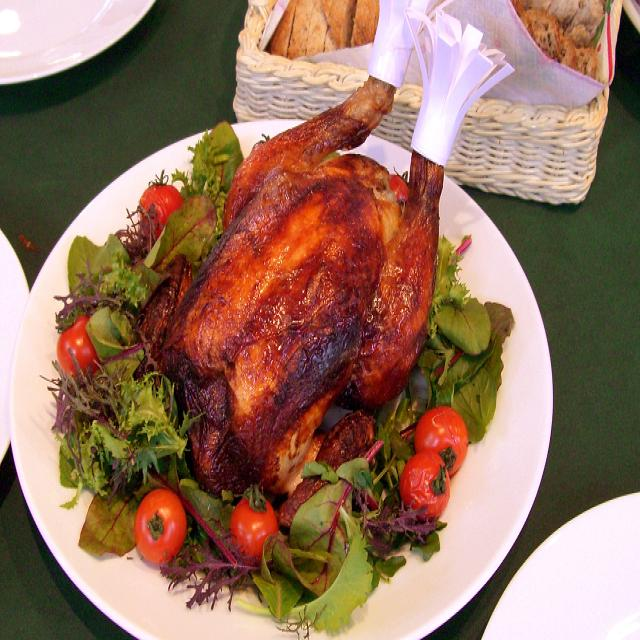鸡肉料理 含炸鸡: (165, 8, 505, 484)
